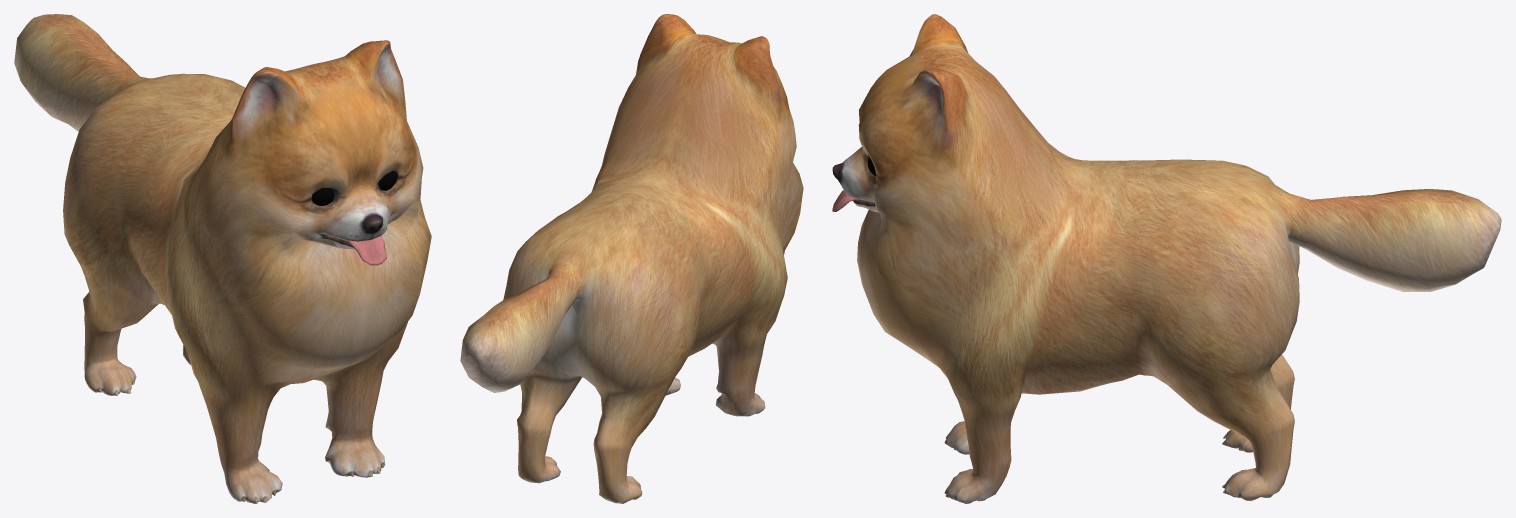
File: dog_fome.fbx
The picture shows the model from 3 angles, left to right: view 1: azimuth 30°, elevation 25°; view 2: azimuth 150°, elevation 25°; view 3: azimuth 270°, elevation 25°; orthographic projection. The views are drawn at different scales.
Parts seen in each view (by area): view 1: body, toungue; view 2: body; view 3: body.
Boxes of the visible parts, <box> form: body: <box>14,14,431,503</box>; toungue: <box>346,236,386,265</box>; body: <box>460,14,803,503</box>; body: <box>832,14,1501,503</box>.
Bounding box in the file's own units: 21.95 × 41.05 × 58.21.
